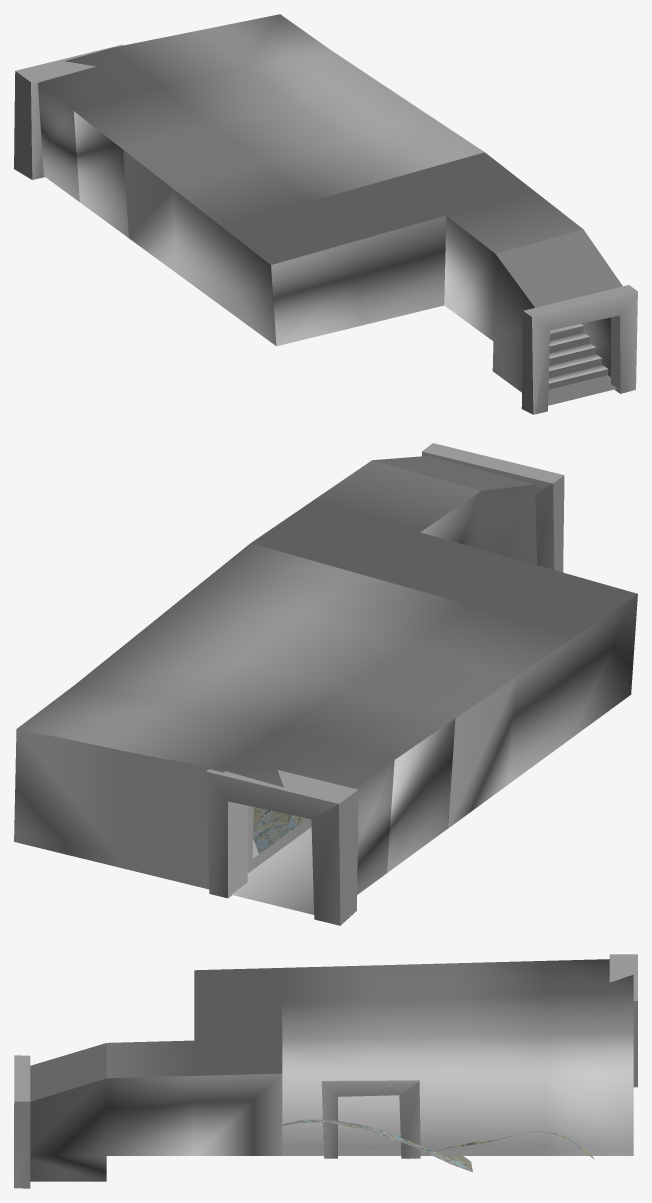
Rendered from office_connector_buried.fbx.
3 renders of one model, top to bottom at view 1: azimuth 30°, elevation 25°; view 2: azimuth 150°, elevation 25°; view 3: azimuth 270°, elevation 25°, orthographic. The views are drawn at different scales.
Visible parts, largest first — view 1: wall, DoorFrame_Connector1, DoorFrame_Connector2, stair; view 2: wall, DoorFrame_Connector2, DoorFrame_Connector1, Paper, window_wall; view 3: wall, door, DoorFrame_Connector1, Paper, DoorFrame_Connector2.
Part boxes in pixels (<box>): wall: <box>37,14,622,405</box>; DoorFrame_Connector1: <box>521,285,637,414</box>; DoorFrame_Connector2: <box>14,44,123,179</box>; stair: <box>548,324,608,389</box>; wall: <box>14,456,637,914</box>; DoorFrame_Connector2: <box>206,769,358,925</box>; DoorFrame_Connector1: <box>422,443,564,572</box>; Paper: <box>112,748,307,853</box>; window_wall: <box>224,771,311,873</box>; wall: <box>30,959,633,1181</box>; door: <box>321,1080,420,1158</box>; DoorFrame_Connector1: <box>14,1055,30,1188</box>; Paper: <box>282,1119,593,1172</box>; DoorFrame_Connector2: <box>609,954,637,1087</box>.
Size of what is drawn, in the model's own units: 1554 by 675 by 3249.
